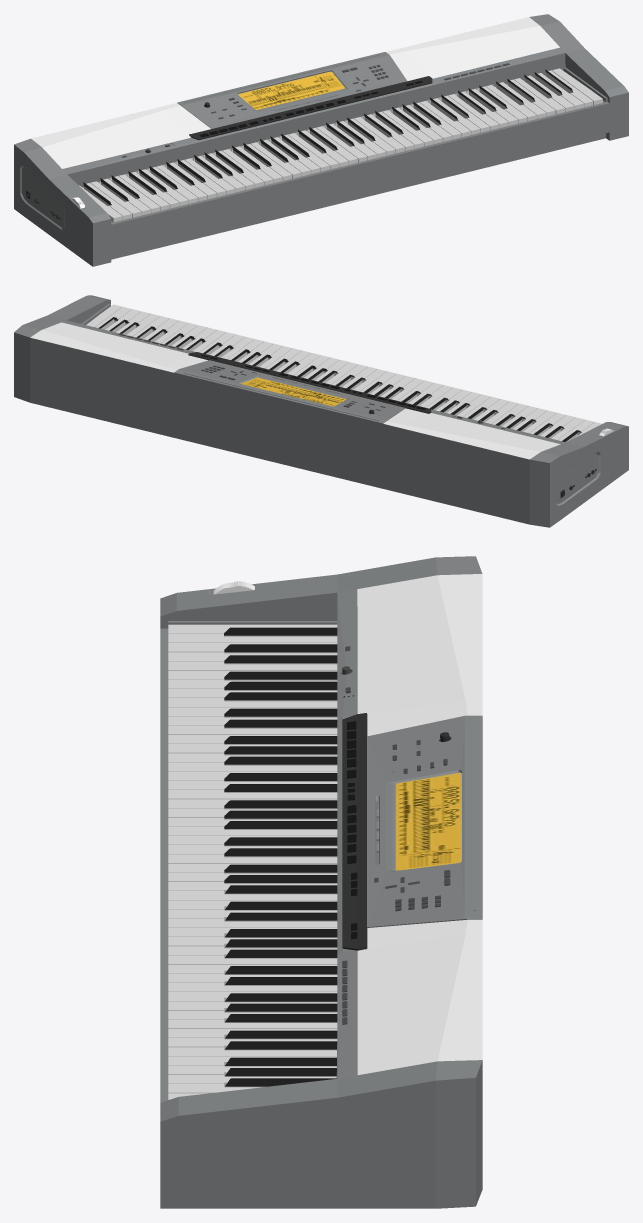
Rendered from casio.glb.
The picture shows the model from 3 angles, top to bottom: view 1: azimuth 30°, elevation 25°; view 2: azimuth 150°, elevation 25°; view 3: azimuth 270°, elevation 25°; orthographic projection. The views are drawn at different scales.
Visible parts, largest first — view 1: base, white_keys, black_keys, white_keys.003, white_keys.002; view 2: base, white_keys, black_keys; view 3: base, white_keys, black_keys, white_keys.002, white_keys.001.
Boxes of the visible parts, box(x1,y1,x2,y2) form: base: box(14, 14, 628, 266); white_keys: box(90, 70, 593, 217); black_keys: box(83, 69, 572, 205); white_keys.003: box(552, 68, 602, 105); white_keys.002: box(83, 183, 131, 219); base: box(14, 295, 628, 527); white_keys: box(95, 307, 584, 439); black_keys: box(98, 317, 581, 441); base: box(160, 556, 482, 1208); white_keys: box(168, 643, 337, 1093); black_keys: box(224, 627, 337, 1086); white_keys.002: box(168, 633, 337, 642); white_keys.001: box(168, 624, 337, 636).
Size of the model in its own units: 134 by 15.9 by 34.9.
Materials: 15 (1 with a texture image).
